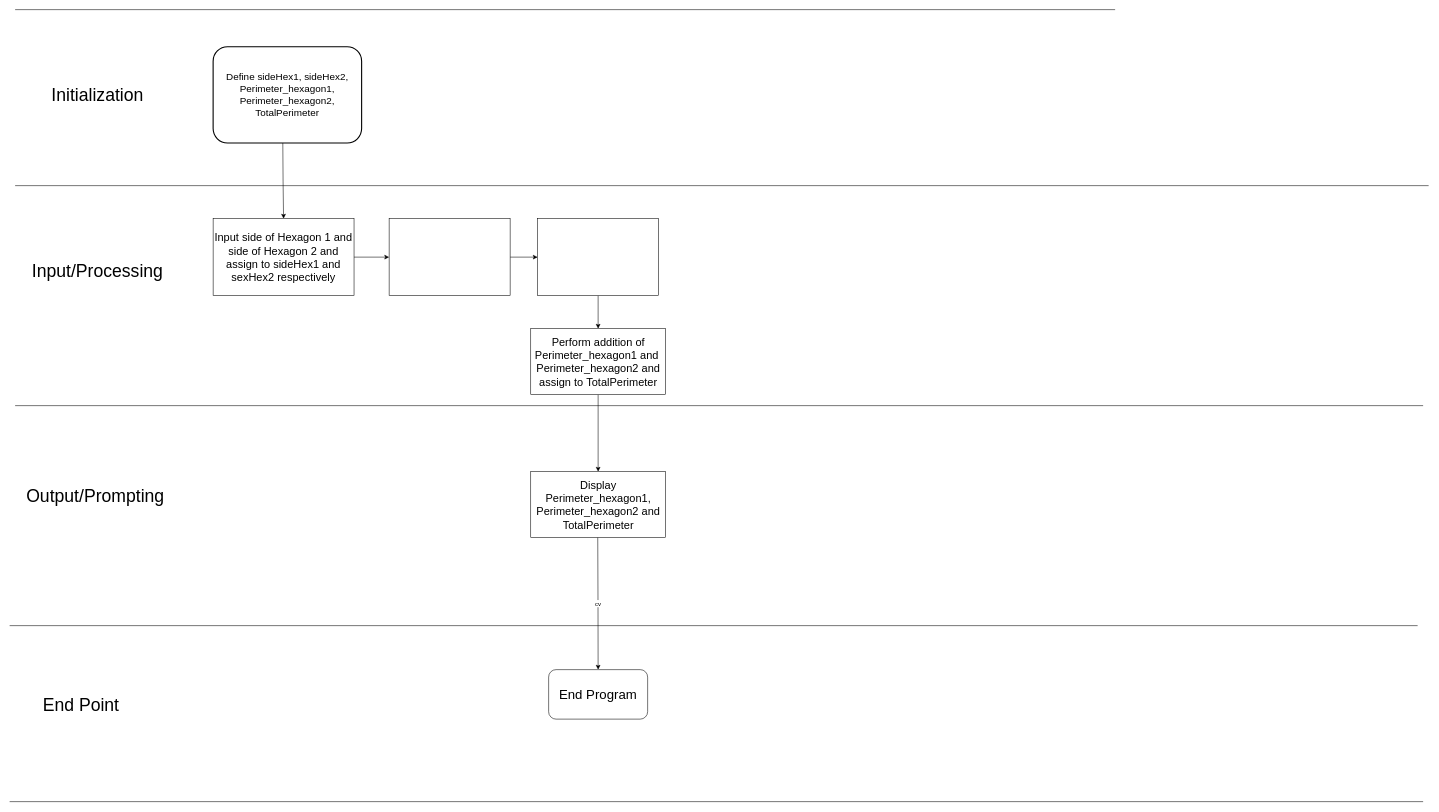
The diagram is 1439 pixels wide and 812 high, and some of its shapes have lost their labels. The centre of each missing label's shape, as x and y in pixels:
Perform addition of sideHex1 by looping 6 times and assign to Perimeter_hexagon1: [449,257]
Perform addition of sideHex2 by looping 6 times and assign to Perimeter_hexagon2: [598,257]
